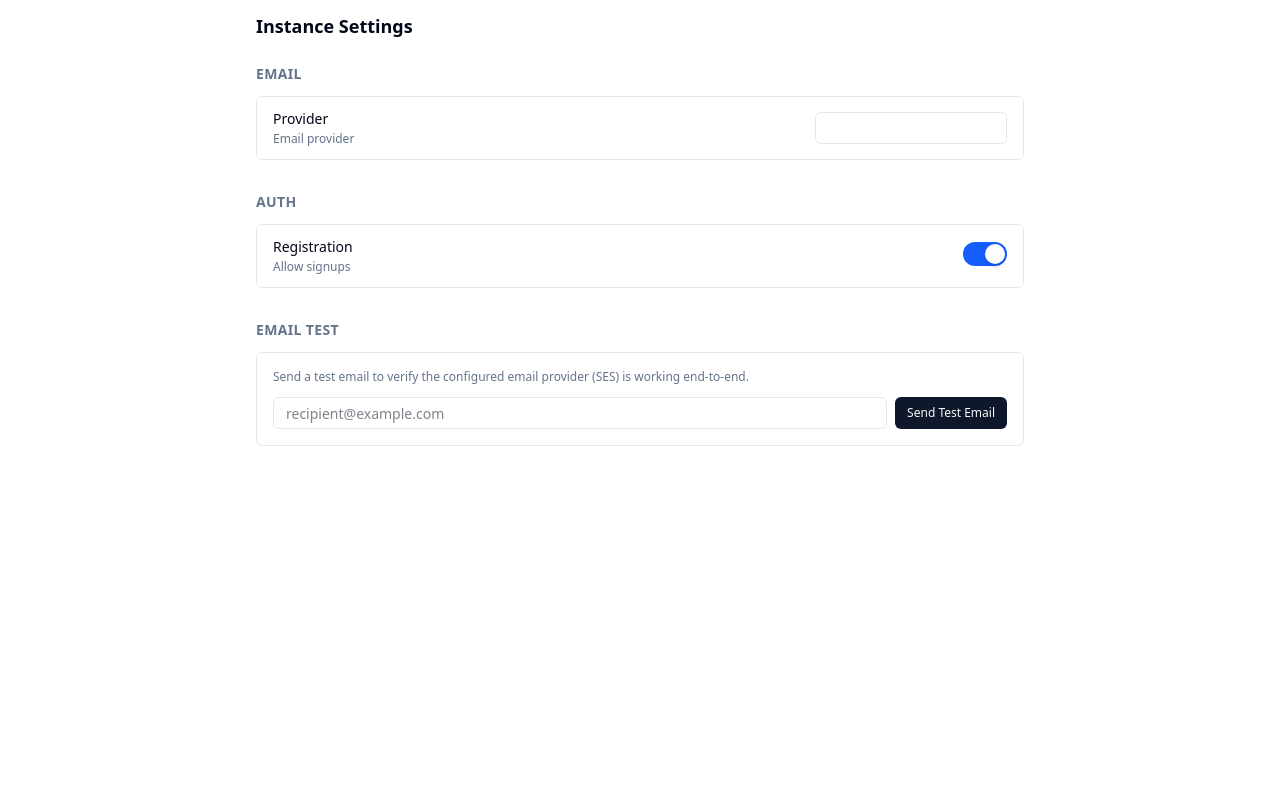
Scenario: AdminSettingsPage › shows error toast when recipient is empty
Click the button "Send Test Email" at (951, 413), box [895,397,1007,429]
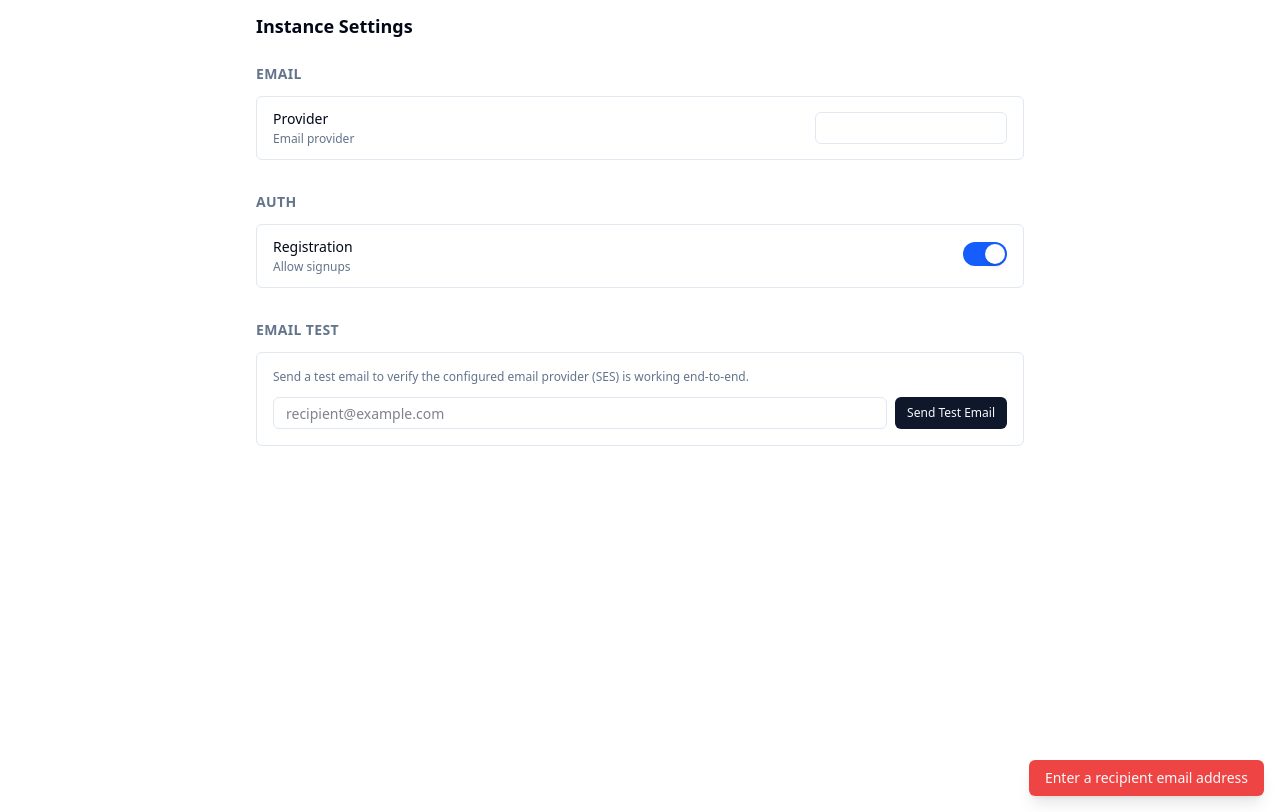
Expected: the text "Enter a recipient email address" is shown, [1029,760,1264,796]
